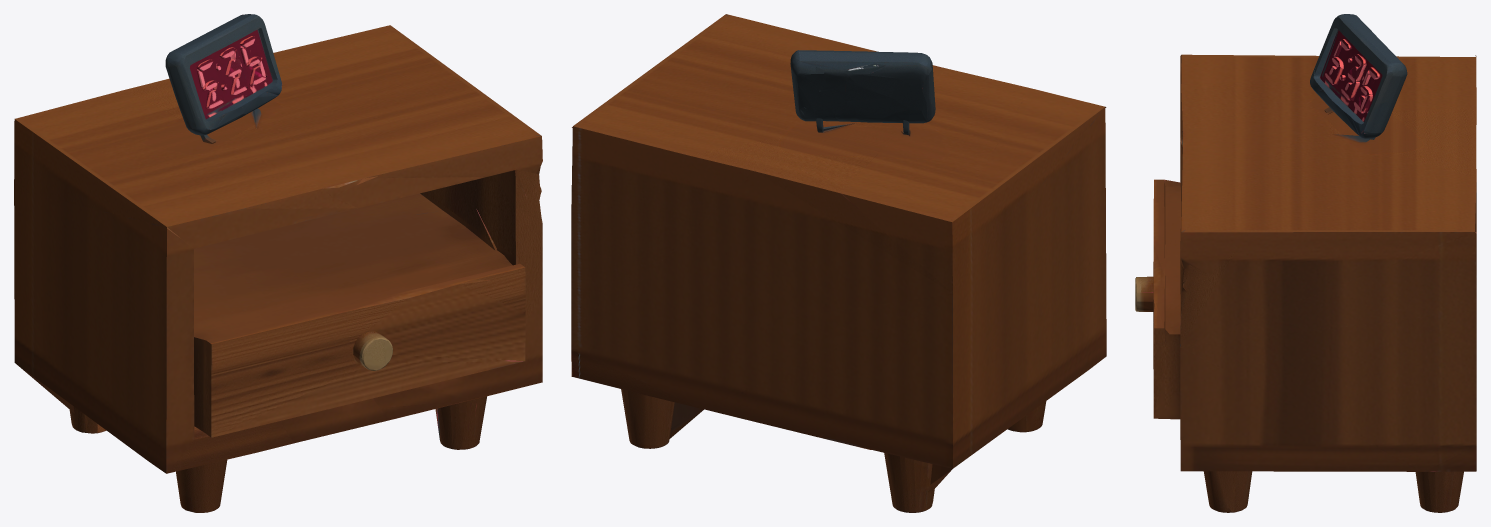
The model's file is Nightstand_and_digital_clock.glb.
3 renders of one model, left to right at view 1: azimuth 30°, elevation 25°; view 2: azimuth 150°, elevation 25°; view 3: azimuth 270°, elevation 25°, orthographic. The views are drawn at different scales.
Size of the model in its own units: 1.88 by 1.9 by 1.52.
Materials: 1 (1 with a texture image).
